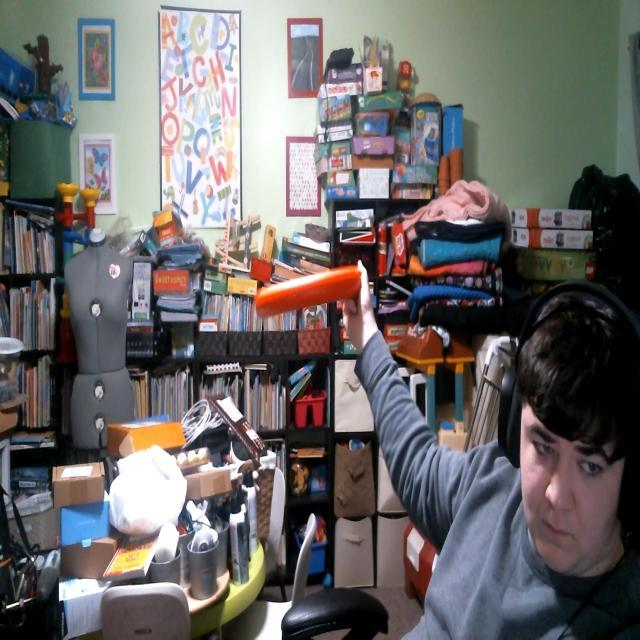note: (254, 259, 360, 316)
